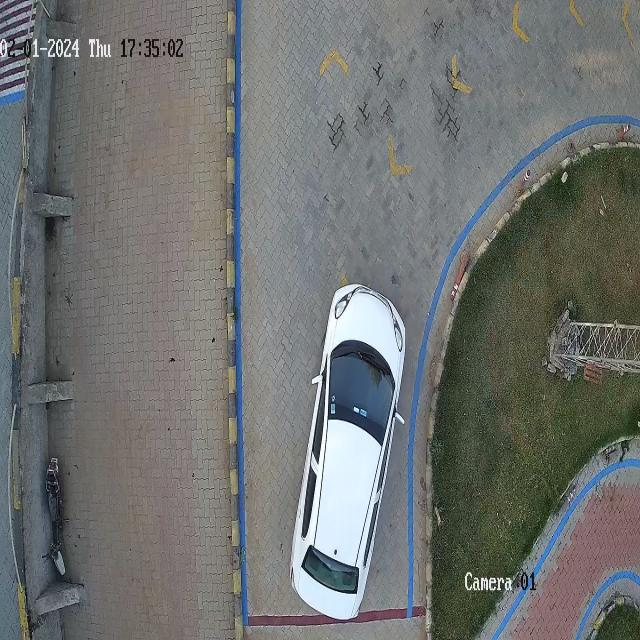car: (291, 284, 406, 620)
